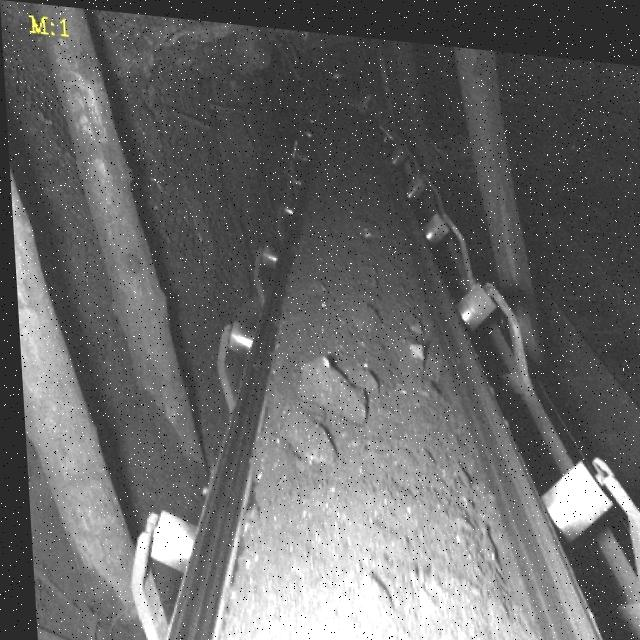large_sized_coal: (298, 353, 362, 419), (274, 397, 329, 461), (346, 355, 375, 382)
